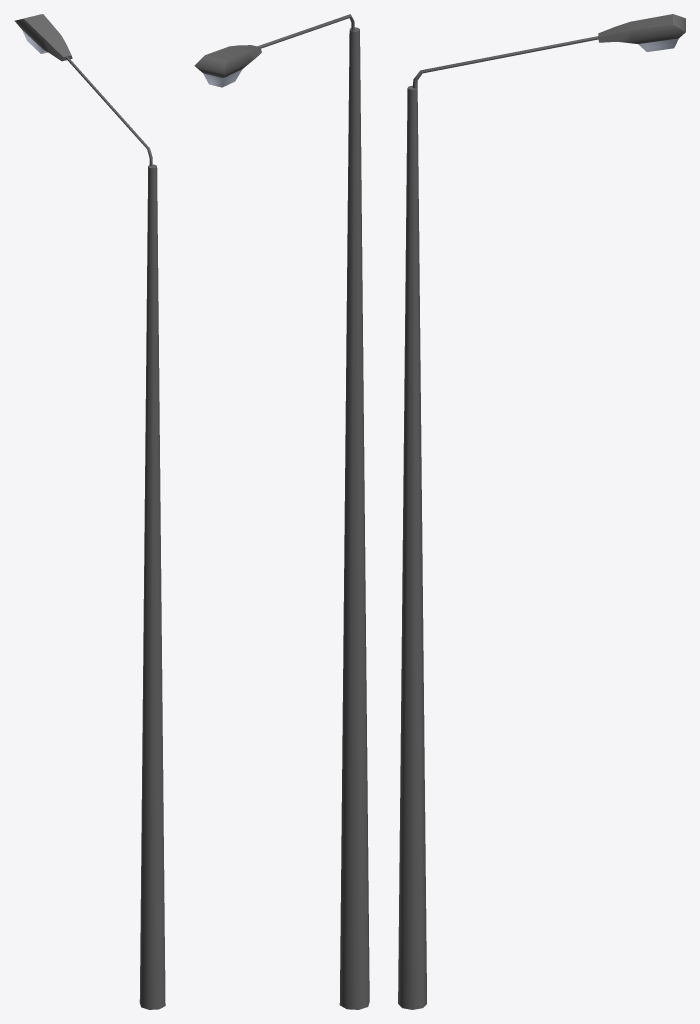
Rendered from deng0.FBX.
3 renders of one model, left to right at view 1: azimuth 30°, elevation 25°; view 2: azimuth 150°, elevation 25°; view 3: azimuth 270°, elevation 25°, orthographic. The views are drawn at different scales.
Parts seen in each view (by area): view 1: Lantern43; view 2: Lantern43; view 3: Lantern43.
Boxes of the visible parts, box(x1,y1,x2,y2) form: Lantern43: box(14, 14, 165, 1009); Lantern43: box(194, 14, 369, 1009); Lantern43: box(398, 14, 685, 1009).
Bounding box in the file's own units: 1.47 × 48.37 × 12.82.
